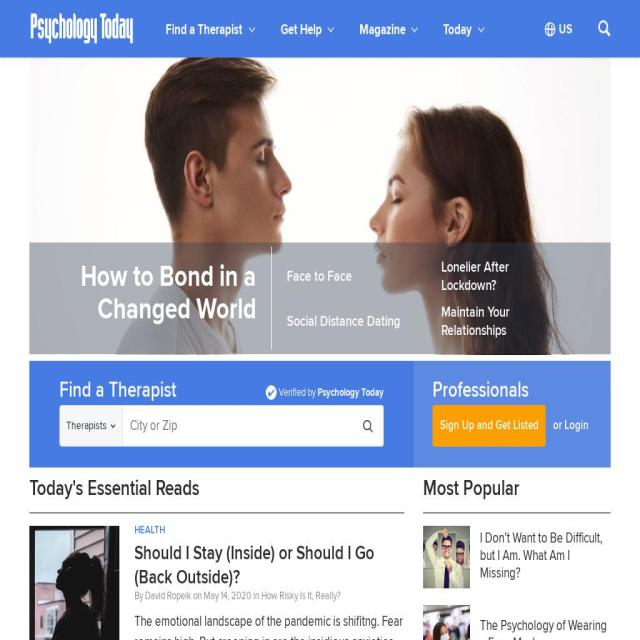button: (423, 525, 611, 588), (423, 604, 611, 640), (432, 404, 546, 447), (166, 12, 256, 46), (59, 404, 122, 447), (359, 12, 419, 46), (280, 12, 335, 46), (443, 12, 485, 46), (542, 16, 560, 42), (598, 16, 611, 41)
field: (122, 404, 384, 447)
heading: (29, 476, 200, 640), (81, 258, 256, 328), (134, 541, 374, 590), (423, 476, 611, 500), (134, 523, 165, 640), (29, 14, 134, 44), (60, 376, 176, 403), (441, 257, 509, 294), (442, 302, 509, 339), (432, 378, 528, 402), (286, 311, 400, 330), (286, 266, 352, 285)
image: (29, 57, 610, 355), (30, 525, 120, 640), (423, 525, 470, 588), (423, 604, 470, 640), (266, 384, 276, 400)
link: (261, 589, 341, 603), (145, 589, 191, 603), (564, 417, 589, 432)
text: (134, 610, 404, 640), (480, 528, 611, 582), (480, 616, 610, 640), (191, 589, 261, 603), (317, 385, 383, 399), (277, 385, 317, 399), (134, 589, 145, 603), (554, 417, 564, 432)
